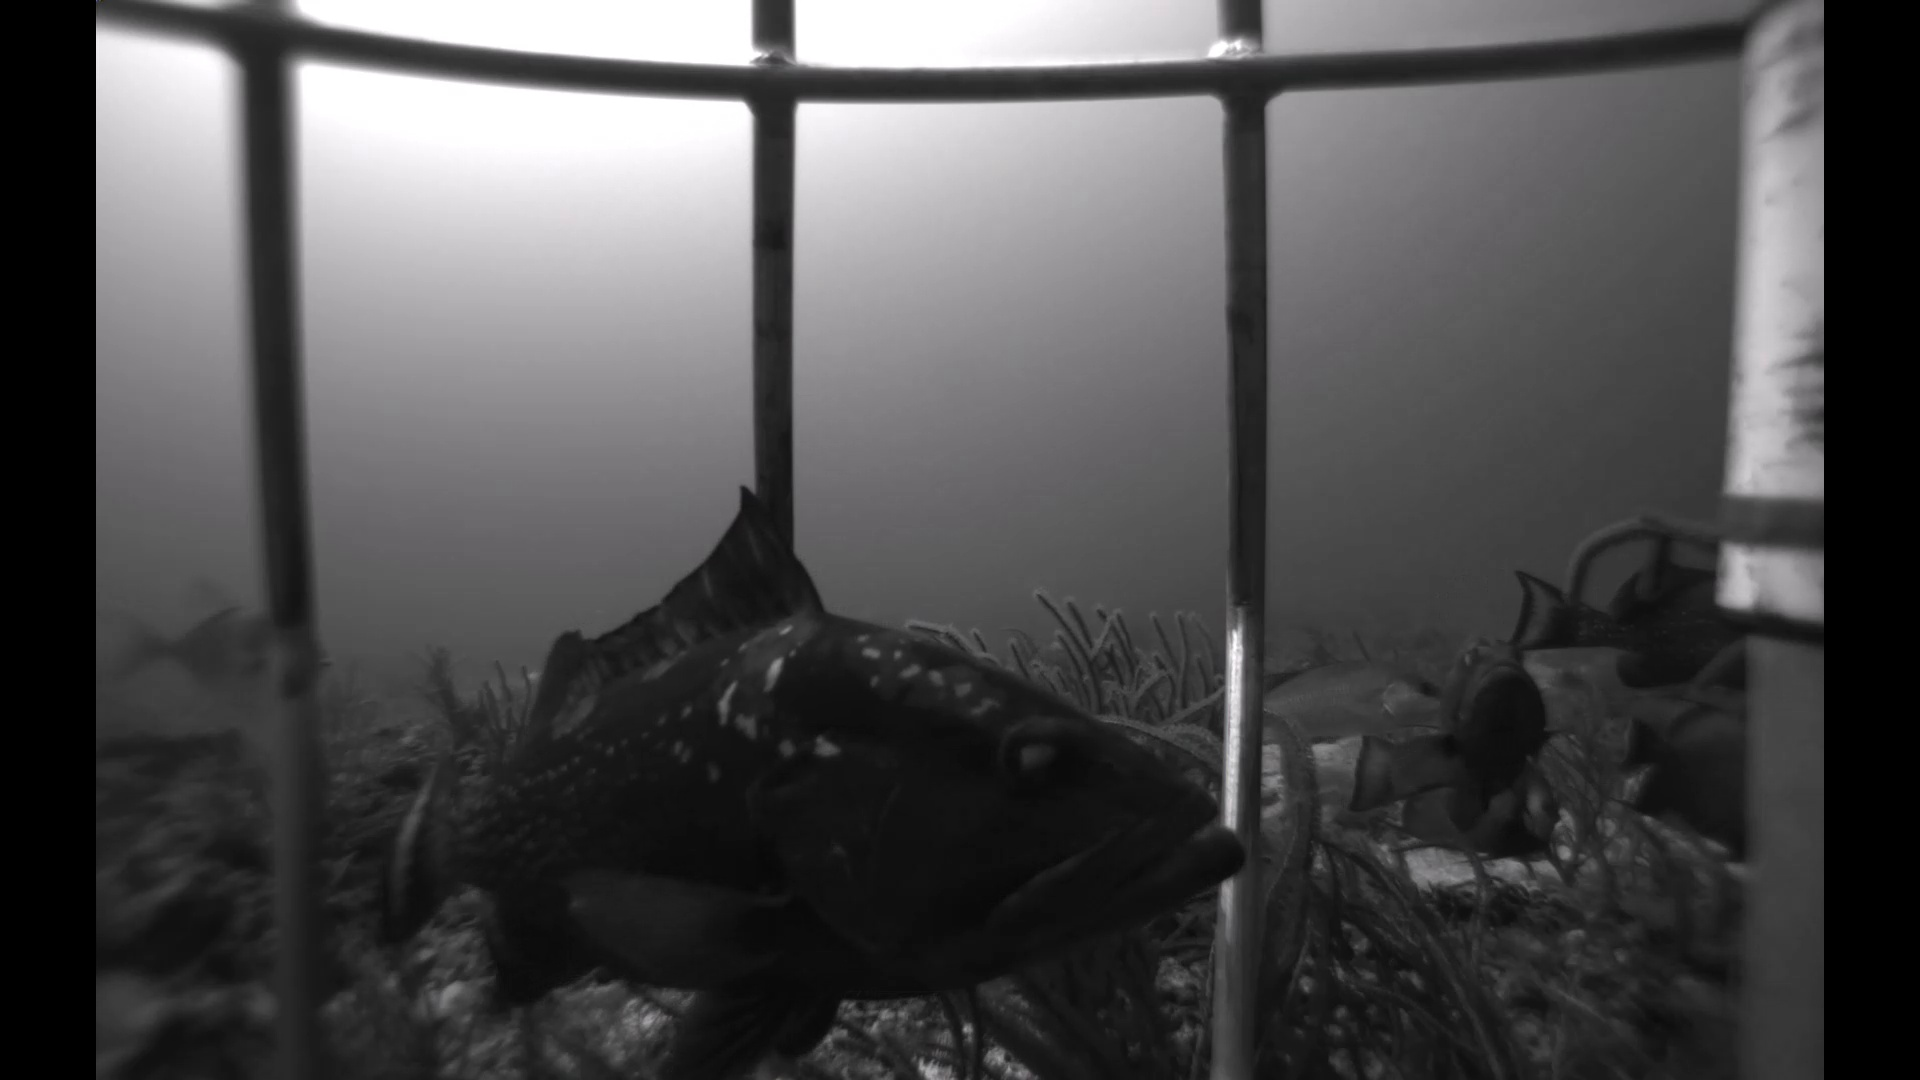BALISTESCAPRISCUS-189030502: (99, 574, 339, 717)
EPINEPHELUSMORIO-170021211: (348, 465, 1247, 1073), (1328, 633, 1586, 824), (1491, 520, 1749, 686)
LUTJANUSGRISEUS-170151109: (1207, 647, 1456, 756)
POMACANTHUSARCUATUS-170290201: (1604, 684, 1753, 869), (1373, 740, 1571, 870)
